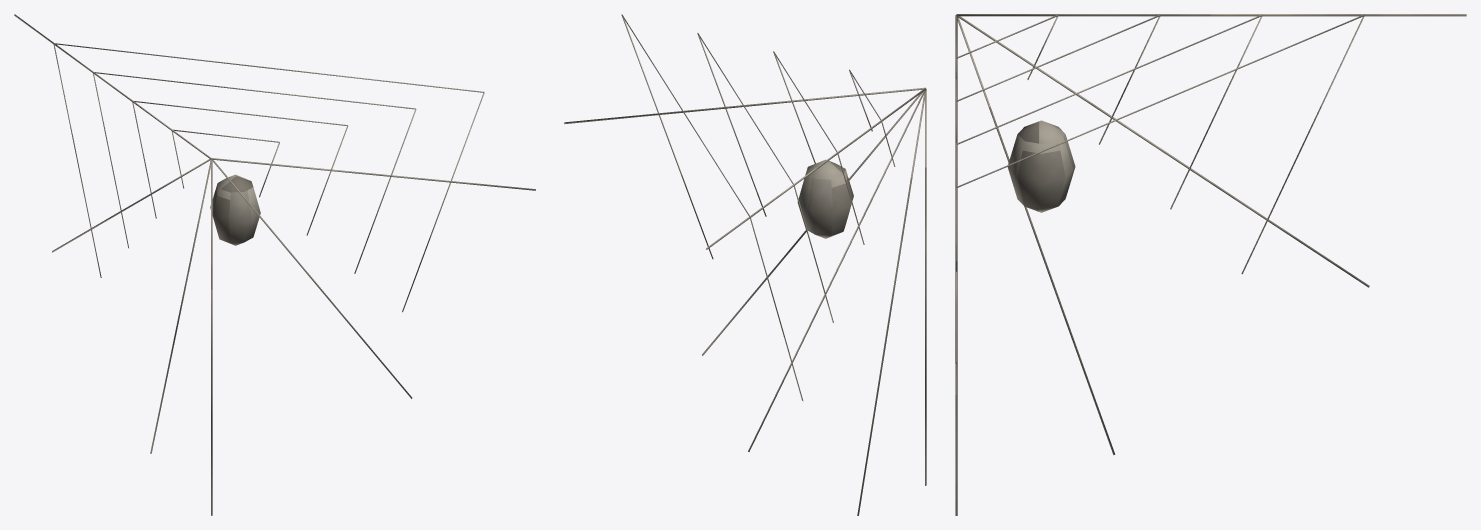
Rendered from D04_cobweb_corner_v3.glb.
3 views of the same model, side by side, from view 1: azimuth 30°, elevation 25°; view 2: azimuth 150°, elevation 25°; view 3: azimuth 270°, elevation 25° (orthographic). The views are drawn at different scales.
Visible parts, largest first — view 1: D04_cobweb_corner_v3; view 2: D04_cobweb_corner_v3; view 3: D04_cobweb_corner_v3.
Part boxes in pixels (x1,y1,x2,y2): D04_cobweb_corner_v3: [14, 14, 535, 515]; D04_cobweb_corner_v3: [564, 14, 926, 515]; D04_cobweb_corner_v3: [955, 14, 1466, 515].
Bounding box in the file's own units: 0.571 × 0.6 × 0.5998.
1 material, 1 textured.
